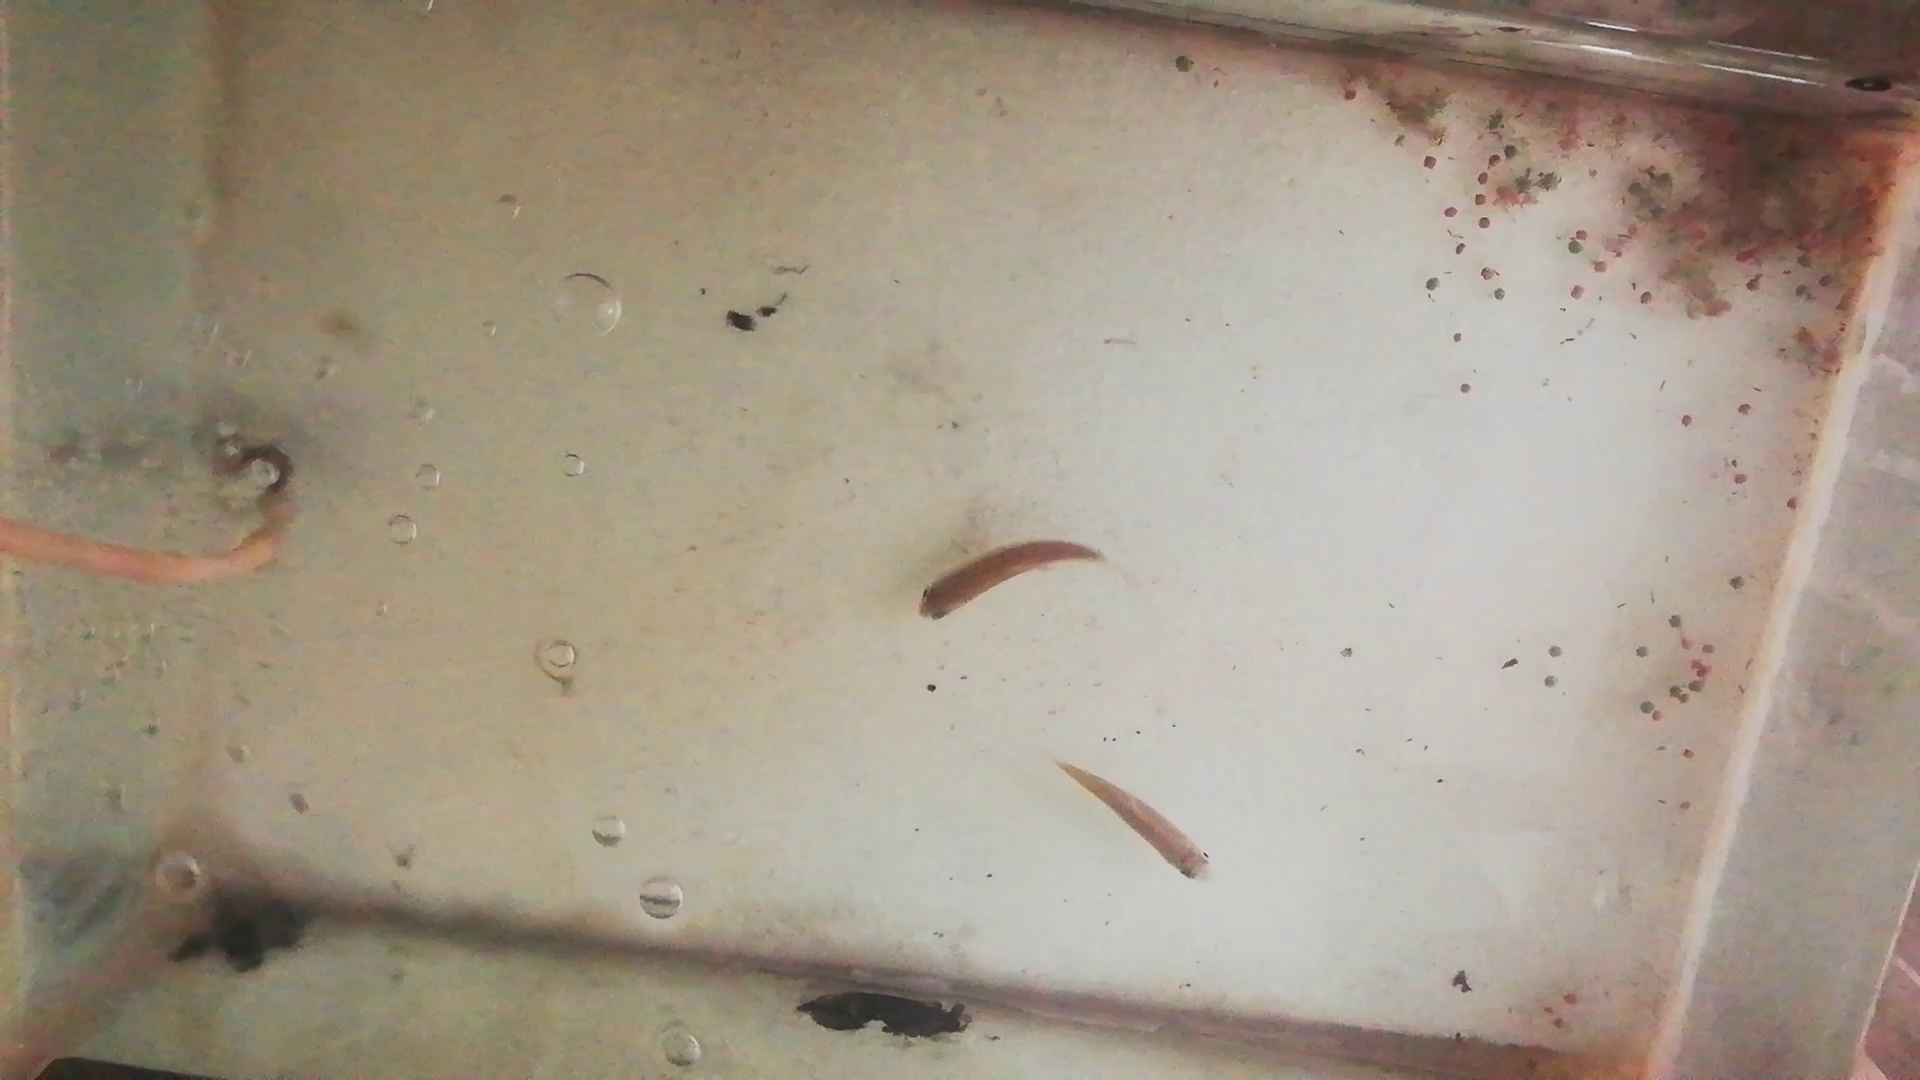fish: (1062, 762, 1215, 889), (913, 535, 1102, 622)
